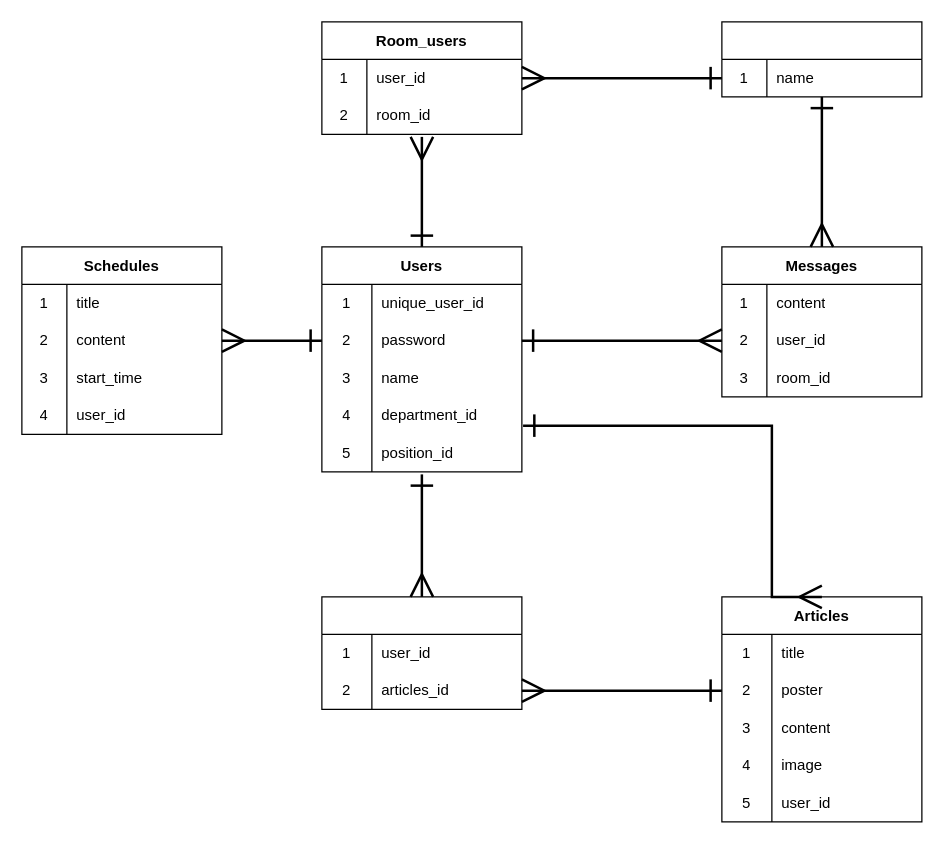
Image size: 944x844. Some labels were removed from this diagram. Each missing label, with the box of its shape:
Checks: (321, 596, 522, 709)
Rooms: (721, 21, 922, 97)
